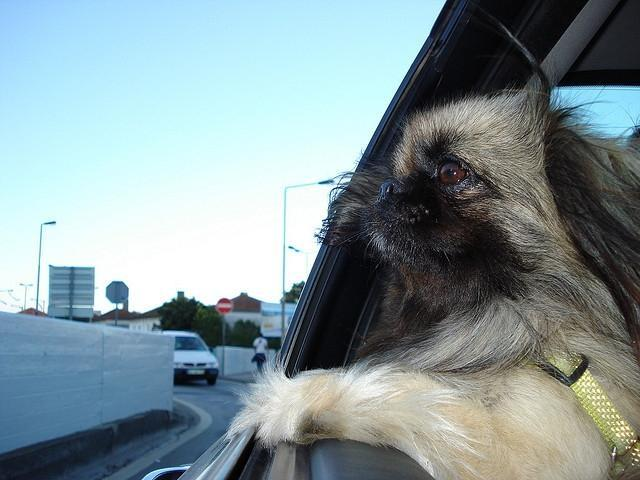car: (278, 232, 394, 378), (159, 330, 221, 386)
